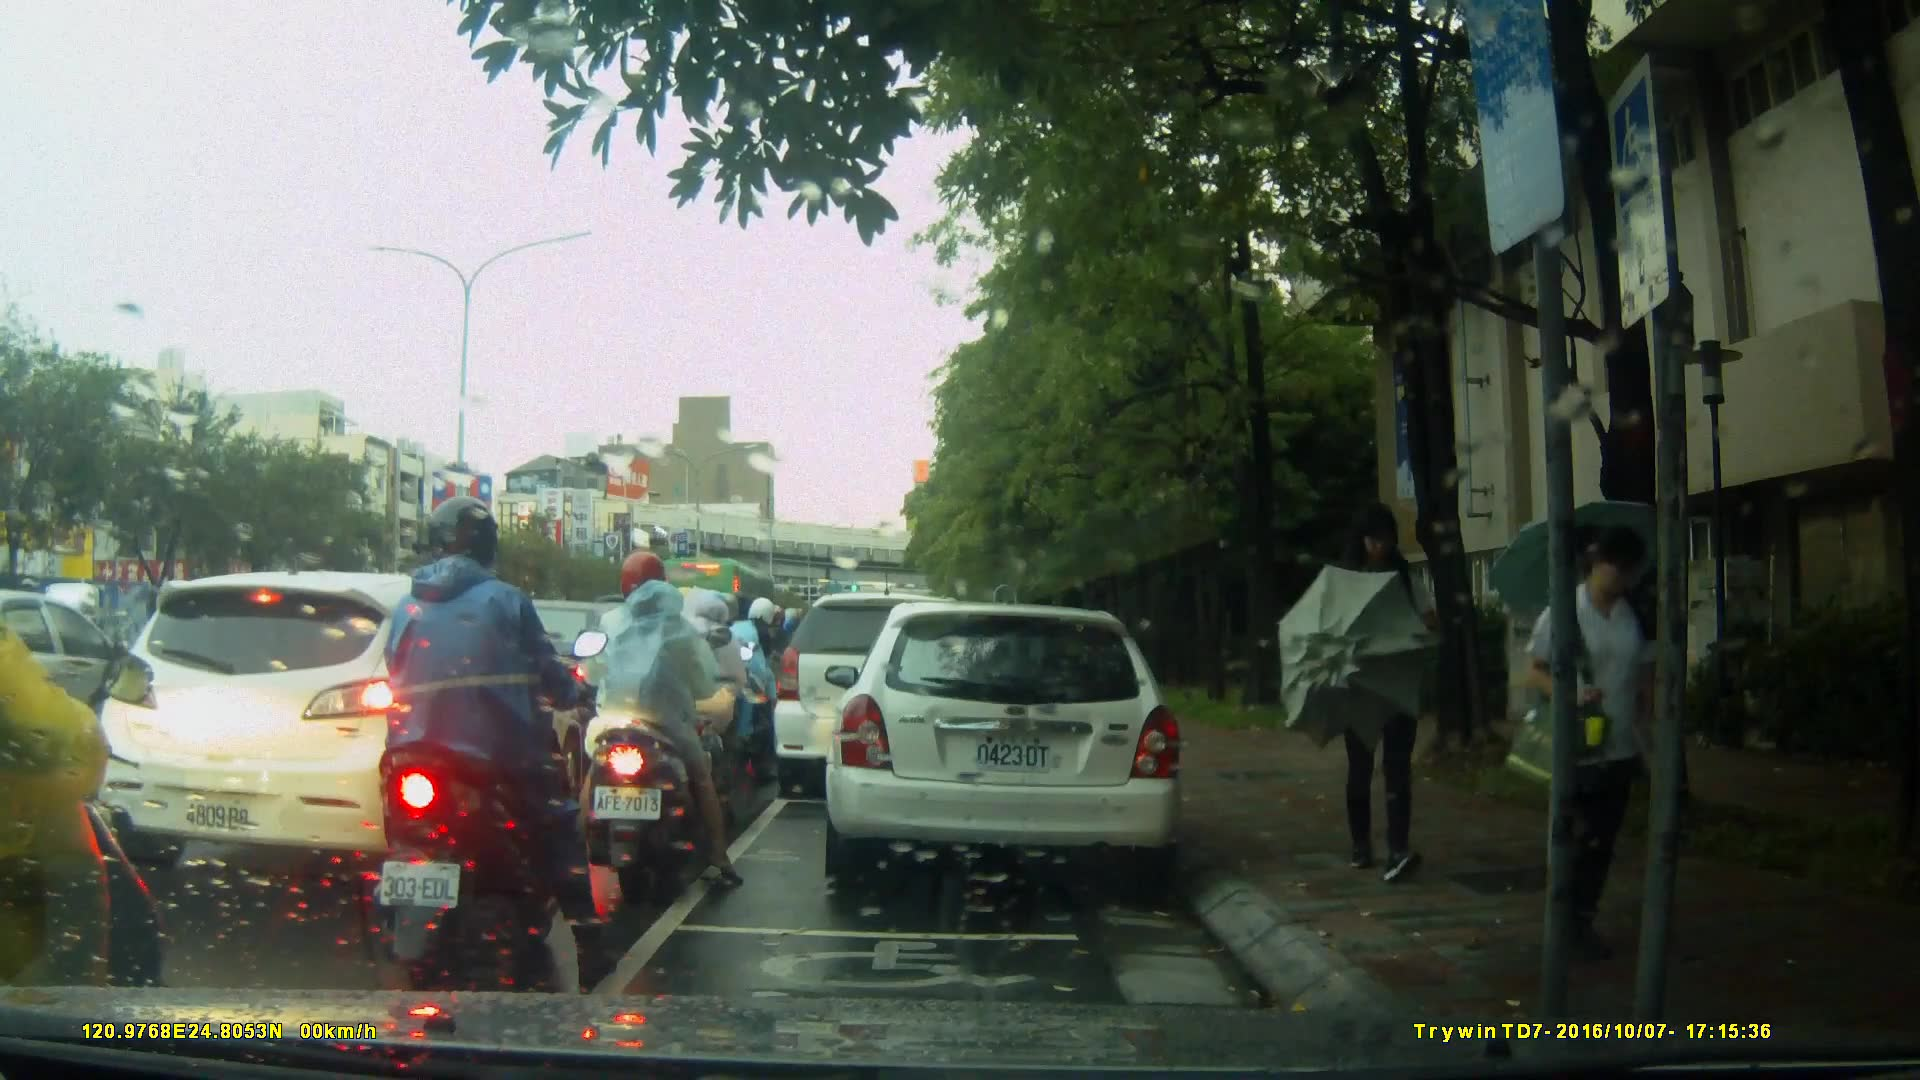pedestrian: (1516, 516, 1672, 971), (1538, 517, 1645, 881), (1342, 497, 1434, 898)
rider: (375, 497, 613, 972), (1, 455, 178, 1080), (578, 559, 747, 888), (640, 580, 764, 823), (711, 594, 788, 768)
vehicle: (96, 569, 617, 883), (822, 604, 1188, 883), (774, 595, 995, 802)
